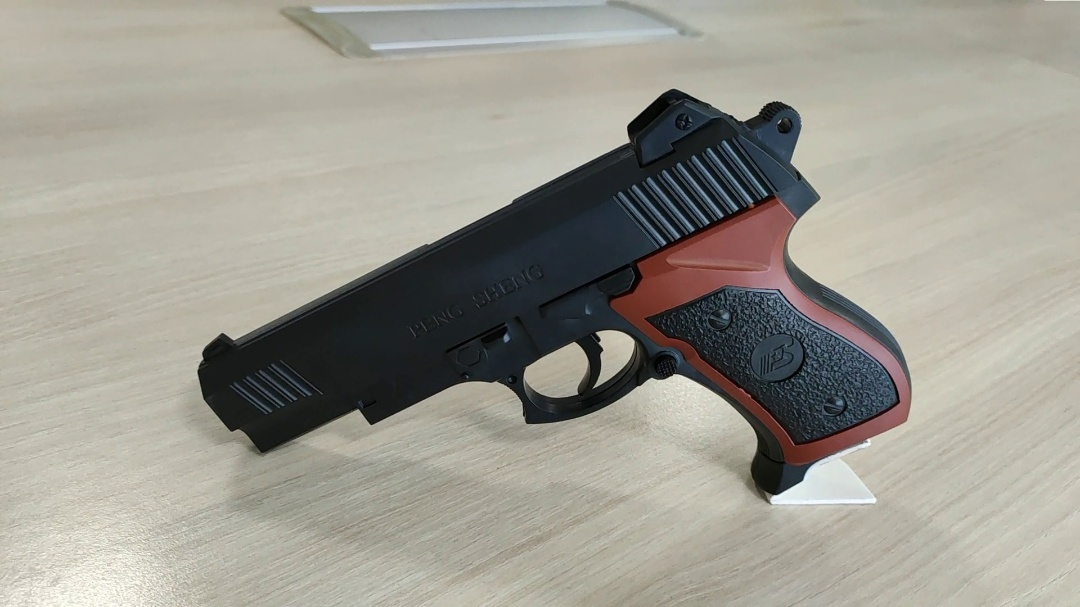gun: (195, 85, 916, 496)
